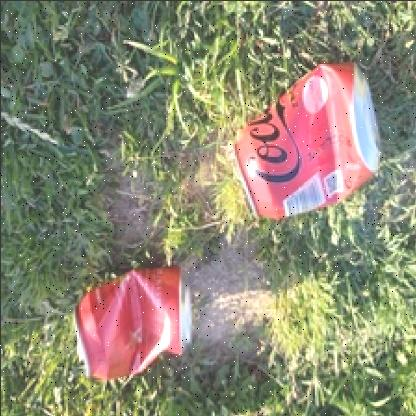Can: (226, 63, 380, 223), (74, 260, 192, 382)
